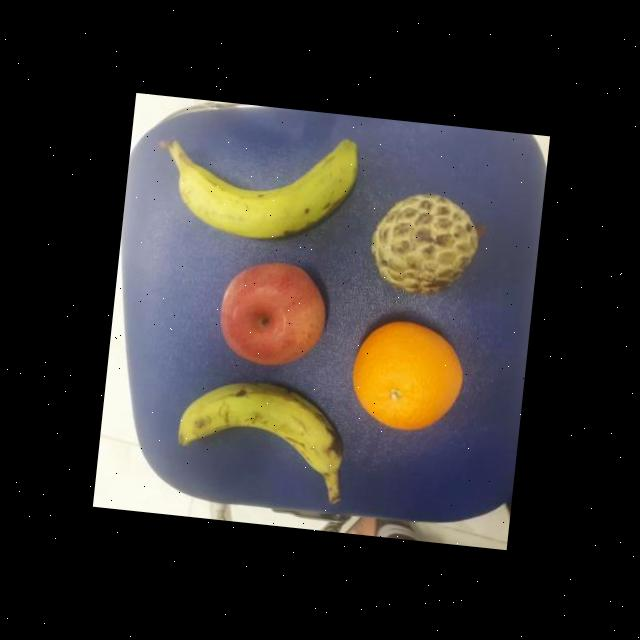Sakya fruit: (362, 184, 483, 298)
apple: (210, 252, 330, 372)
banana: (162, 120, 362, 250), (171, 369, 351, 484)
orange: (342, 314, 471, 438)
